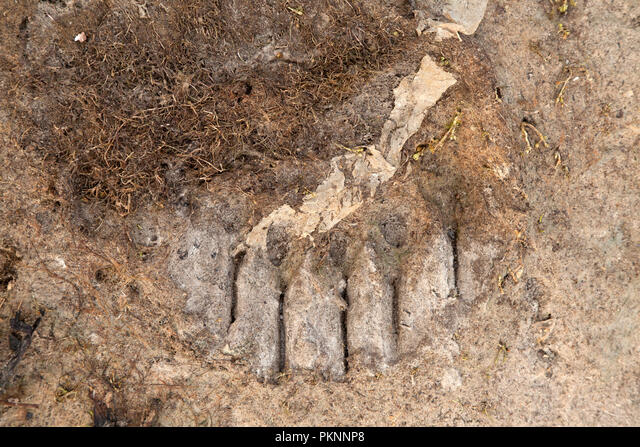bear: (138, 54, 551, 388)
